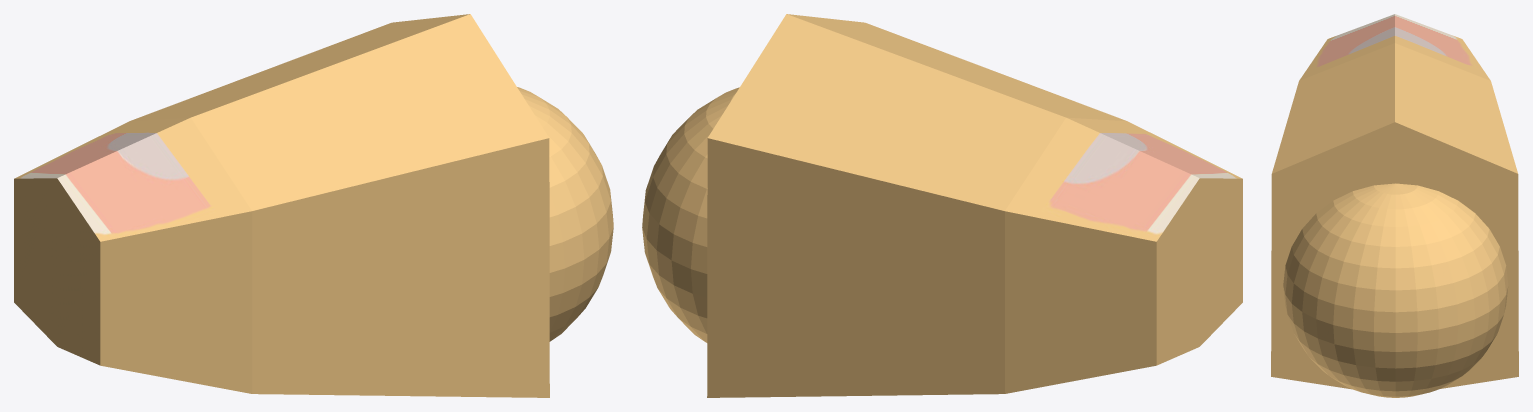
Rendered from R_finger1_1.obj.
3 views of the same model, side by side, from view 1: azimuth 30°, elevation 25°; view 2: azimuth 150°, elevation 25°; view 3: azimuth 270°, elevation 25° (orthographic). The views are drawn at different scales.
Parts seen in each view (by area): view 1: finger1_1球.001_球.002; view 2: finger1_1球.001_球.002; view 3: finger1_1球.001_球.002.
Part boxes in pixels (<box>): finger1_1球.001_球.002: <box>14,14,613,397</box>; finger1_1球.001_球.002: <box>642,14,1242,397</box>; finger1_1球.001_球.002: <box>1271,14,1518,397</box>.
Size of the model in its own units: 0.7318 by 0.4555 by 0.3735.
1 material, 1 textured.
